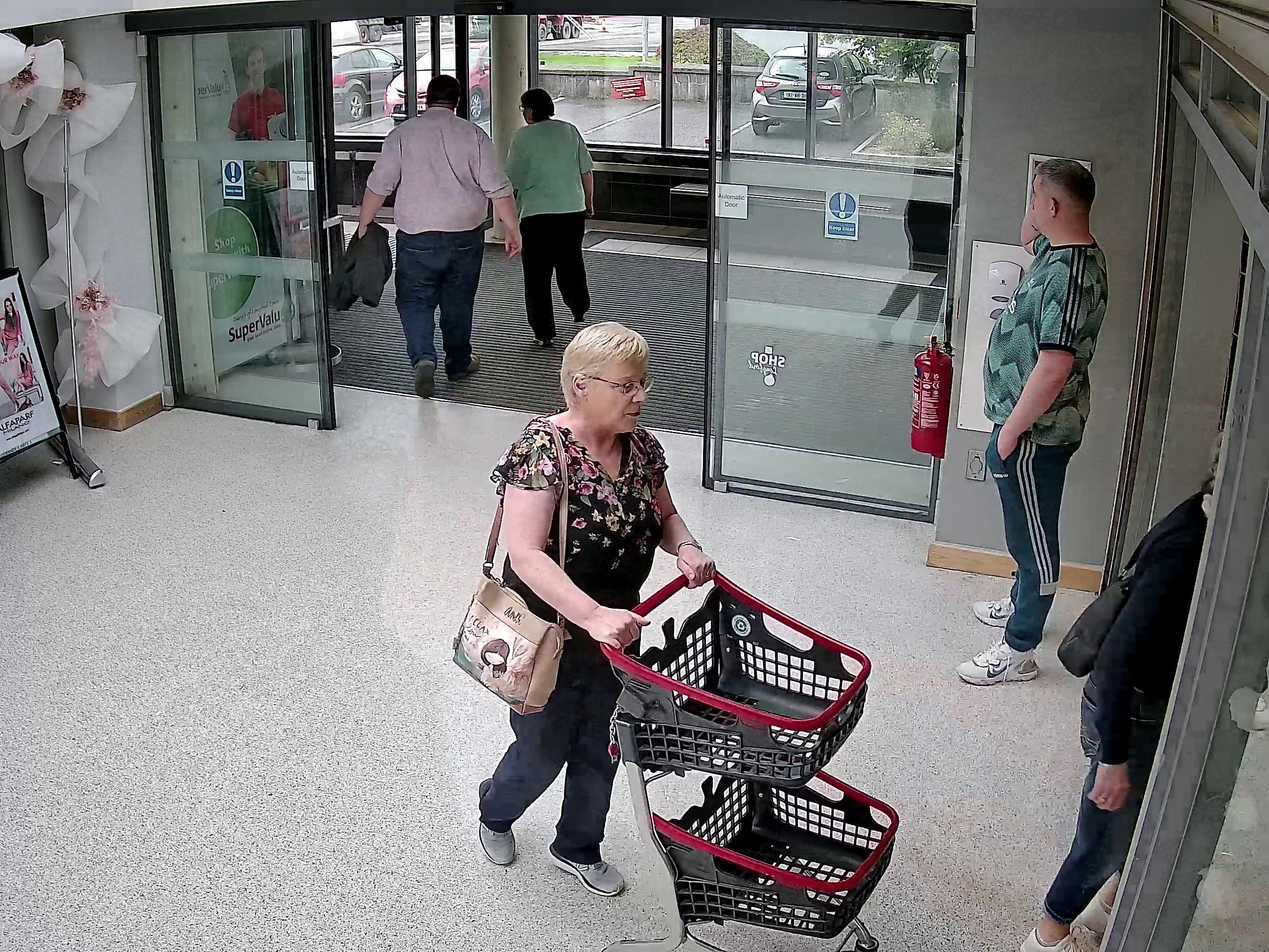backpack-or-handbag: (450, 570, 563, 717)
empty-trolly: (602, 566, 899, 952)
person: (480, 321, 714, 895)
person-with-basket-trolly-and-backpack-handbag: (451, 323, 899, 952)
